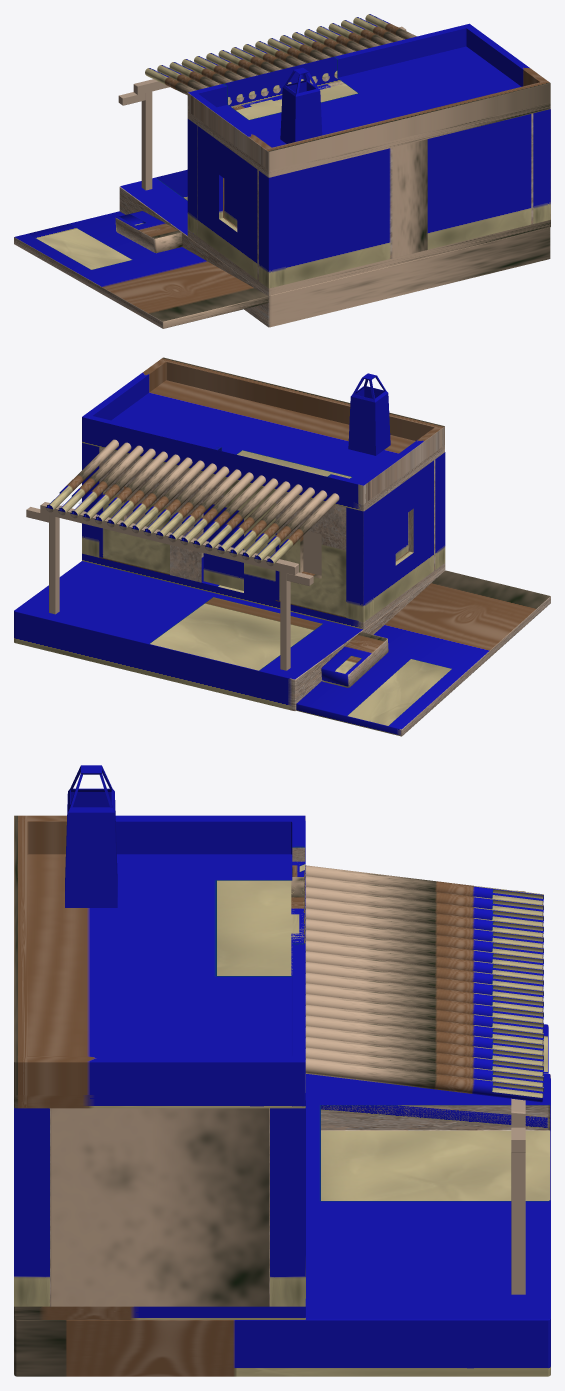
File: home.fbx
The picture shows the model from 3 angles, top to bottom: view 1: azimuth 30°, elevation 25°; view 2: azimuth 150°, elevation 25°; view 3: azimuth 270°, elevation 25°; orthographic projection. The views are drawn at different scales.
Parts seen in each view (by area): view 1: Home; view 2: Home; view 3: Home.
Part boxes in pixels (left/top/right/bottom): Home: left=14, top=14, right=550, bottom=328; Home: left=14, top=357, right=550, bottom=736; Home: left=14, top=765, right=550, bottom=1376.
Size of the model in its own units: 1100 by 617 by 736.
